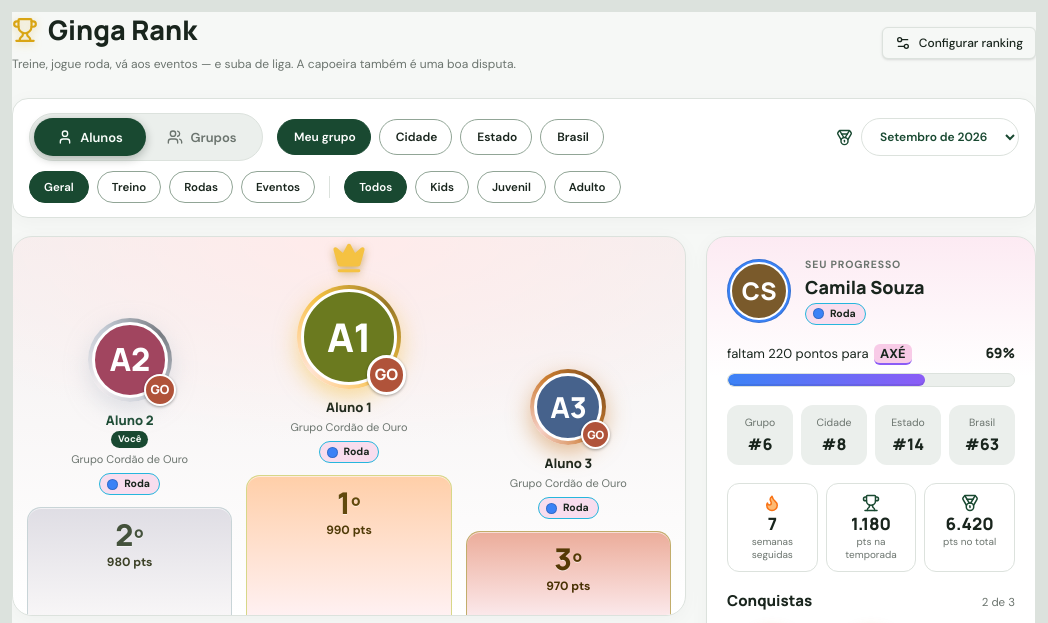
it: Ginga Rank › temporada passada mostra o campeão do Brasil
Select "Setembro de 2026" in the dropdown named "Temporada" at (940, 137), box [861,118,1019,156]
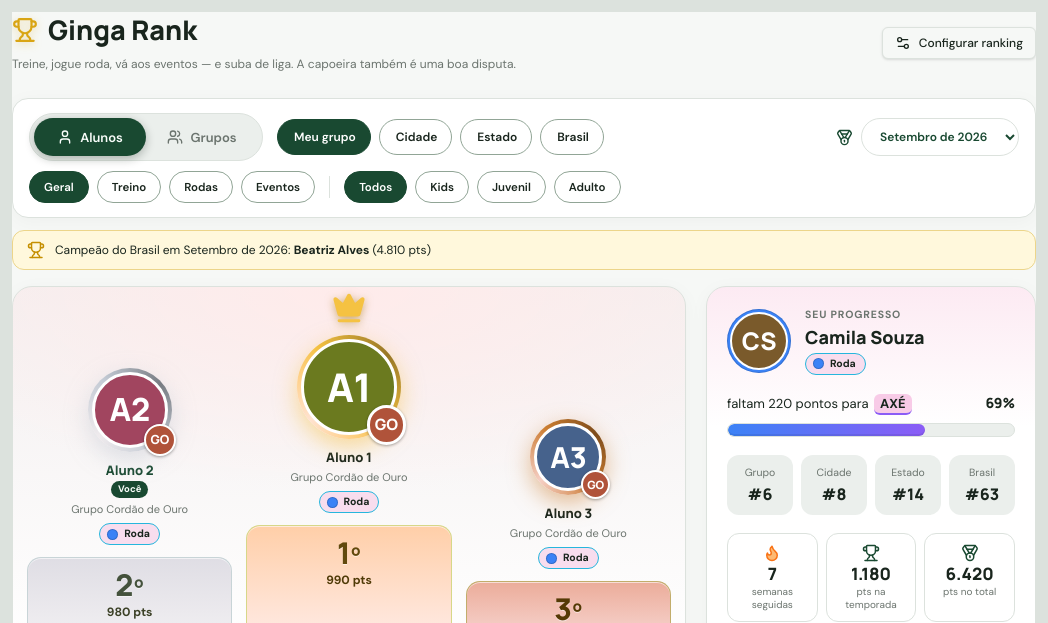
Expected: the element with test id "rk-champions" shows "Beatriz Alves", [294,242,369,258]
